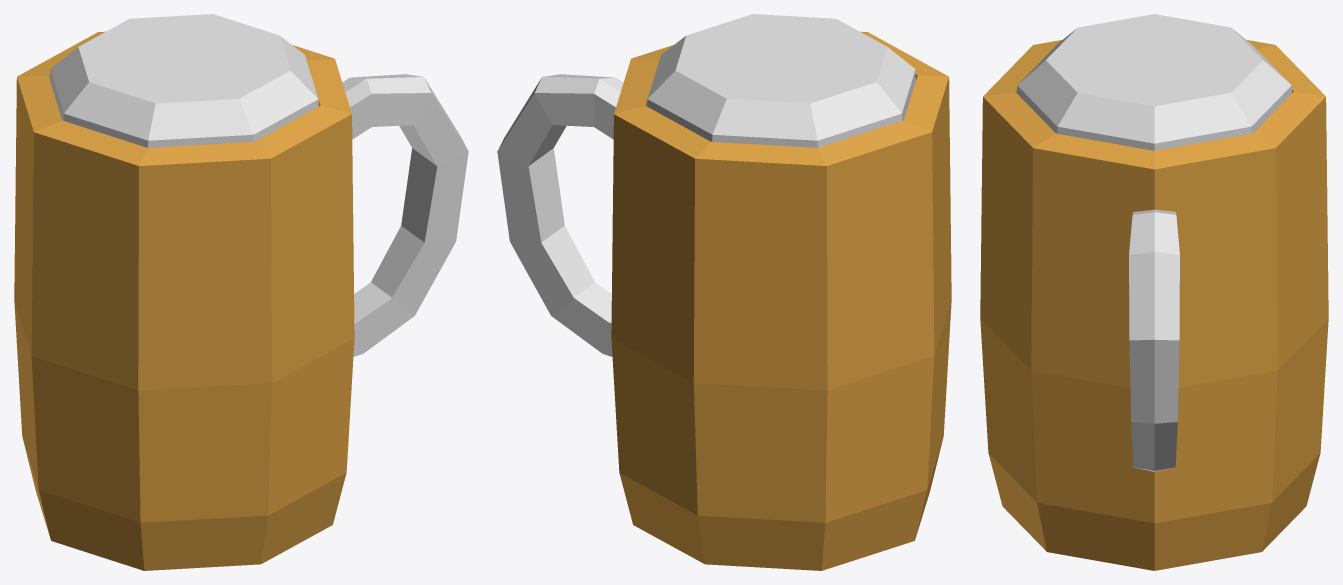
Rendered from SM_Glass_Beer_Lager.fbx.
The picture shows the model from 3 angles, left to right: view 1: azimuth 30°, elevation 25°; view 2: azimuth 150°, elevation 25°; view 3: azimuth 270°, elevation 25°; orthographic projection.
Visible parts, largest first — view 1: glass-beer-lager; view 2: glass-beer-lager; view 3: glass-beer-lager.
Boxes of the visible parts, <box> form: glass-beer-lager: <box>14,14,468,570</box>; glass-beer-lager: <box>497,14,951,570</box>; glass-beer-lager: <box>980,14,1328,570</box>.
Size of the model in its own units: 0.17 by 0.1698 by 0.1202.
